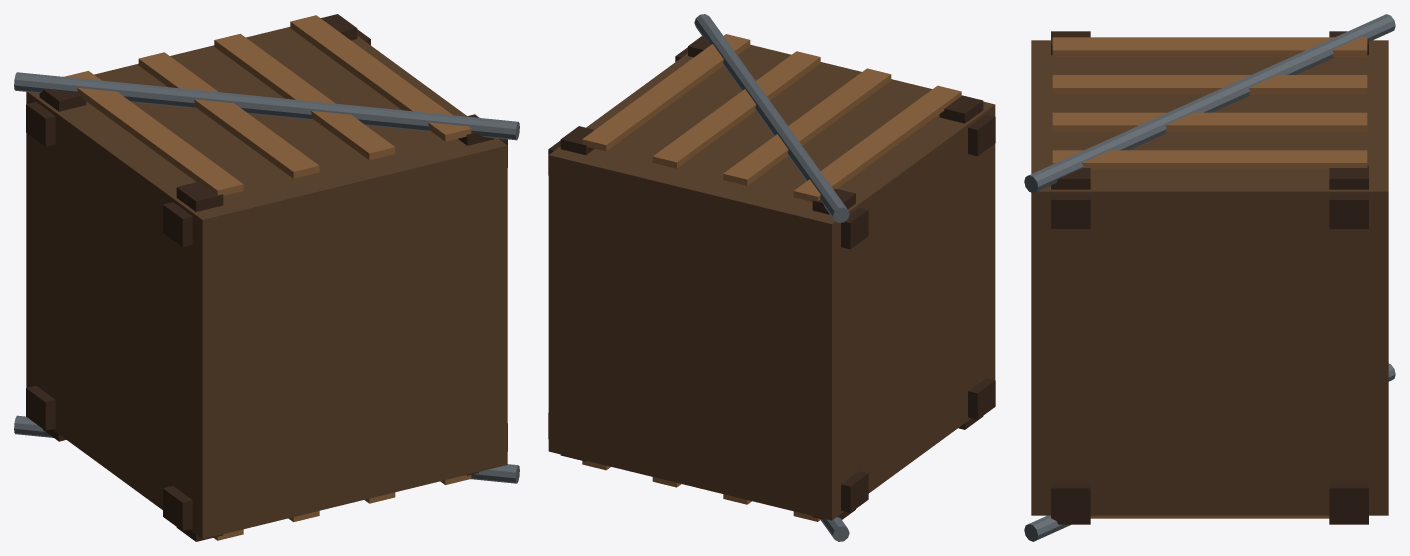
Rendered from SM_WoodenCrate.obj.
3 views of the same model, side by side, from view 1: azimuth 30°, elevation 25°; view 2: azimuth 150°, elevation 25°; view 3: azimuth 270°, elevation 25° (orthographic). The views are drawn at different scales.
Size of the model in its own units: 0.9928 by 1.01 by 0.935.
